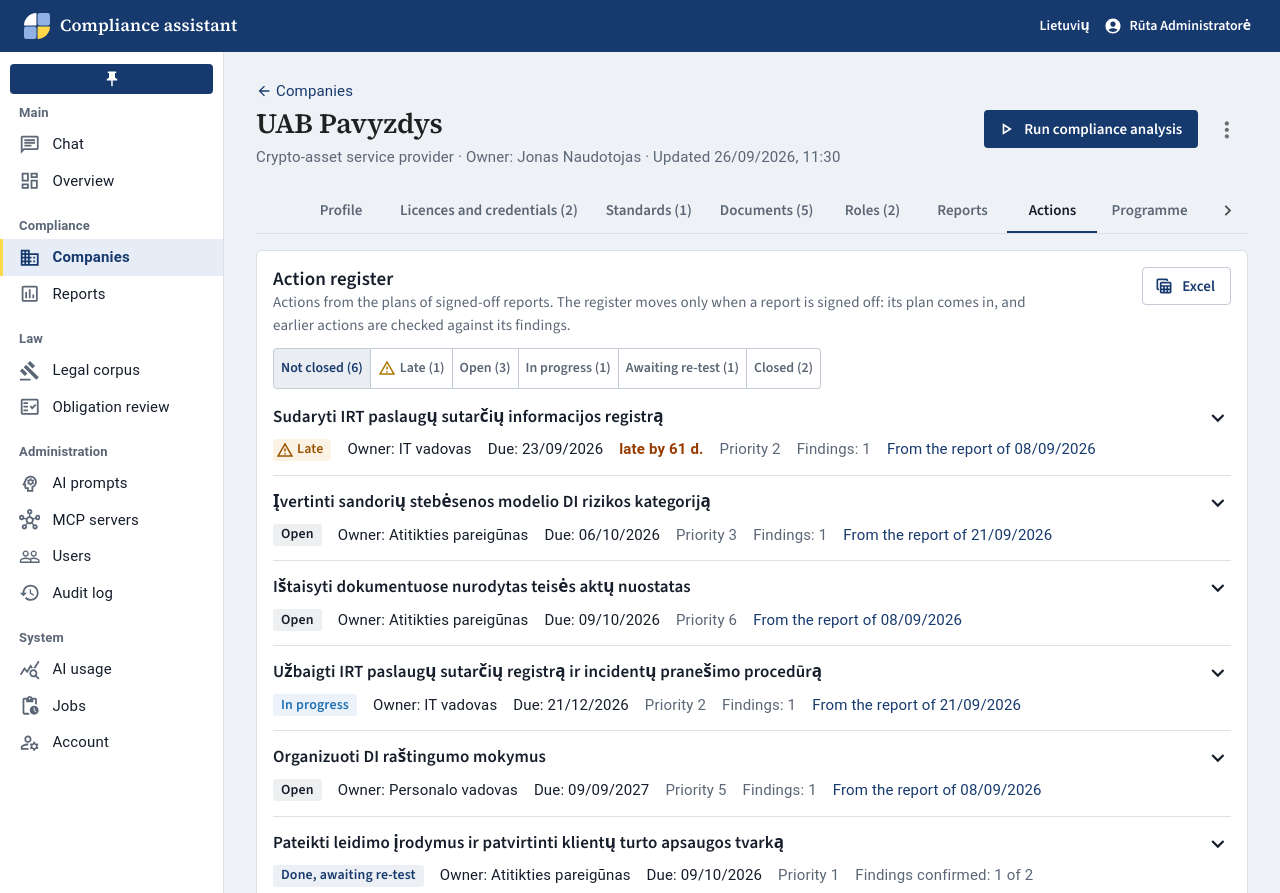
Test: CompanyActions — an opened row › opens to the description and the findings to close: title, act and provision, how the finding stood
Check: the heading "UAB Pavyzdys" is shown, box [256,104,442,142]
What coordinates should you click on to do the following:
click the button "Sudaryti IRT paslaugų sutarčių informacijos registrą"
I would click on:
 (468, 416)
Its box is [273,405,1231,430].
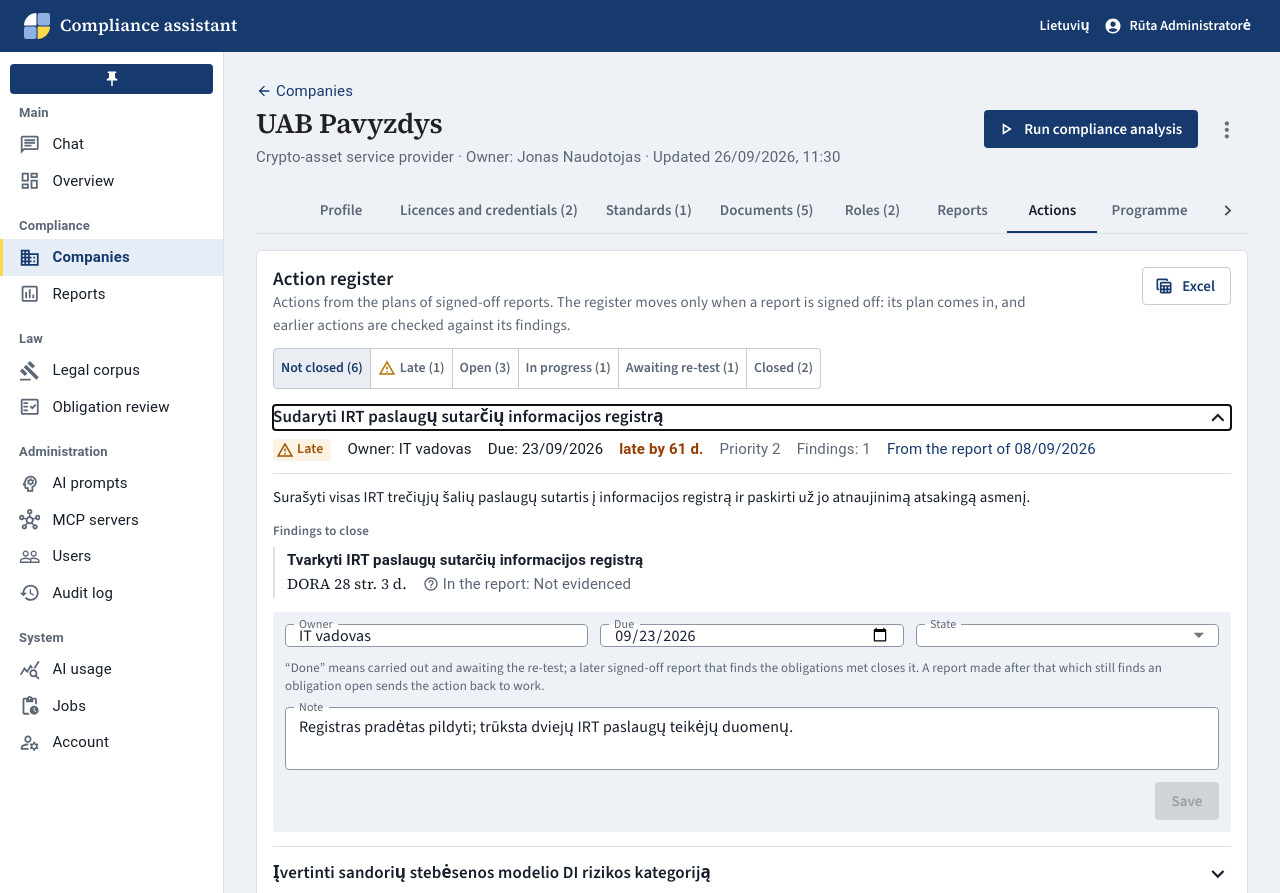
Check: the button "Sudaryti IRT paslaugų sutarčių informacijos registrą" is expanded
Check: the text "Surašyti visas IRT trečiųjų šalių paslaugų sutartis į informacijos registrą ir paskirti už jo atnaujinimą atsakingą asme" is shown, box [273,487,1030,507]
Check: the list shows "Tvarkyti IRT paslaugų sutarčių informacijos registrą", box [287,550,643,568]
What coordinates should you click on to do the following:
click the button "Sudaryti IRT paslaugų sutarčių informacijos registrą"
I would click on:
 (468, 416)
Its box is [273,405,1231,430].
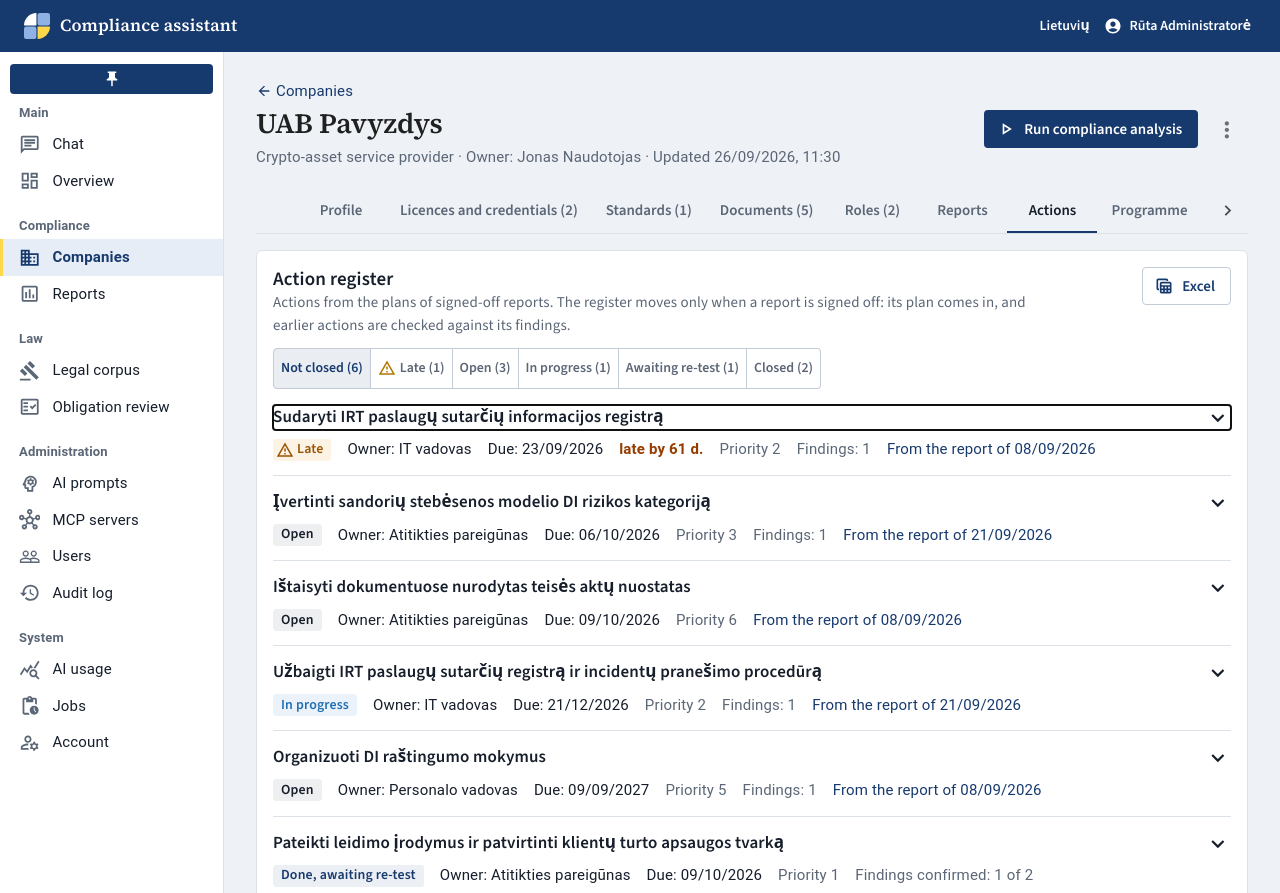
Check: the form is gone
